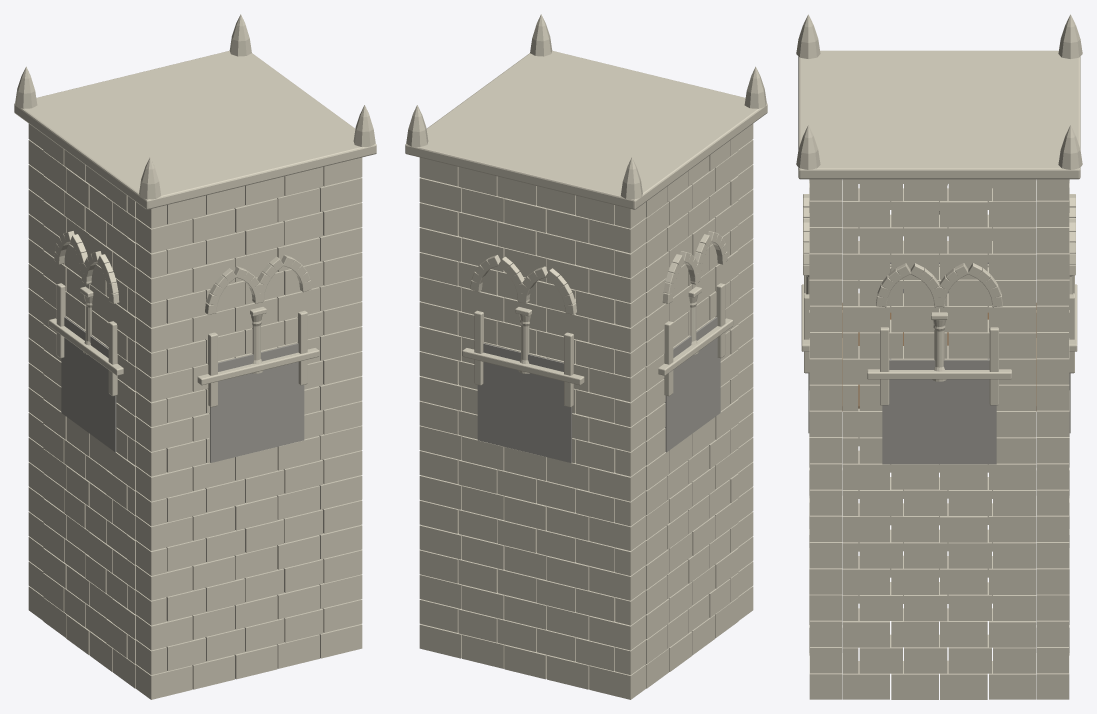
The model's file is monastery_bell_tower_section.glb.
3 renders of one model, left to right at view 1: azimuth 30°, elevation 25°; view 2: azimuth 150°, elevation 25°; view 3: azimuth 270°, elevation 25°, orthographic. The views are drawn at different scales.
Parts seen in each view (by area): view 1: world; view 2: world; view 3: world.
Part boxes in pixels (x1,y1,x2,y2): world: (14,14,376,699); world: (405,14,767,699); world: (796,14,1082,699).
Size of the model in its own units: 0.9024 by 2 by 0.9024.
